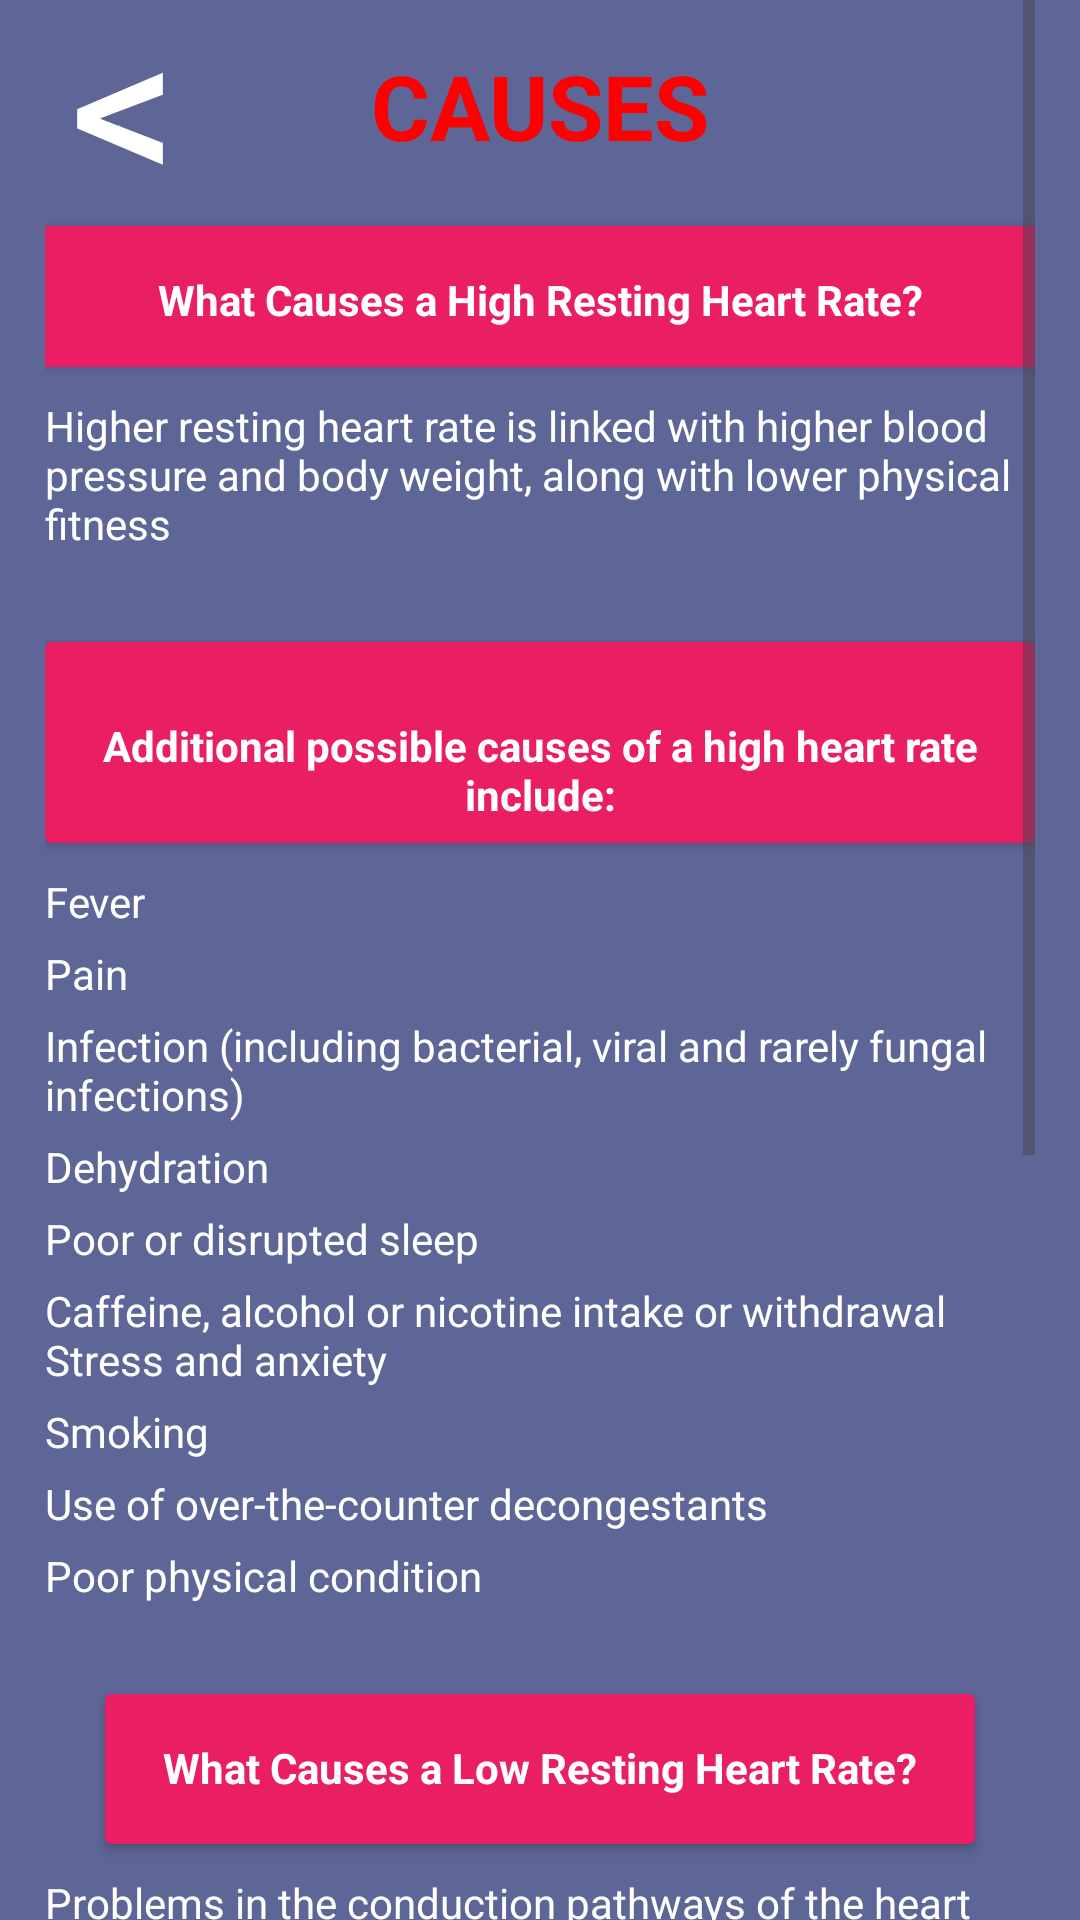

Where icons sit on this 1080 × 1920 app screen, as rect(x1, y1, x2, y2):
less than sign: rect(77, 73, 163, 165)
